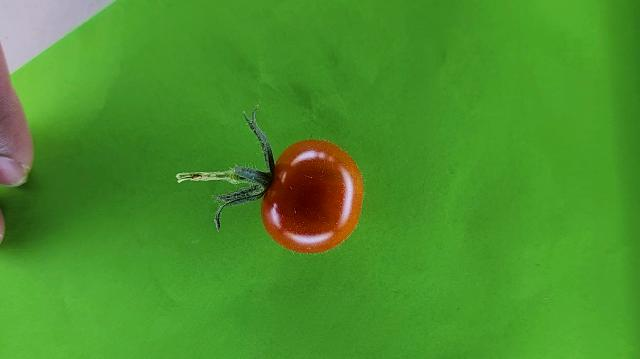Fully Grown: (259, 139, 367, 255)
